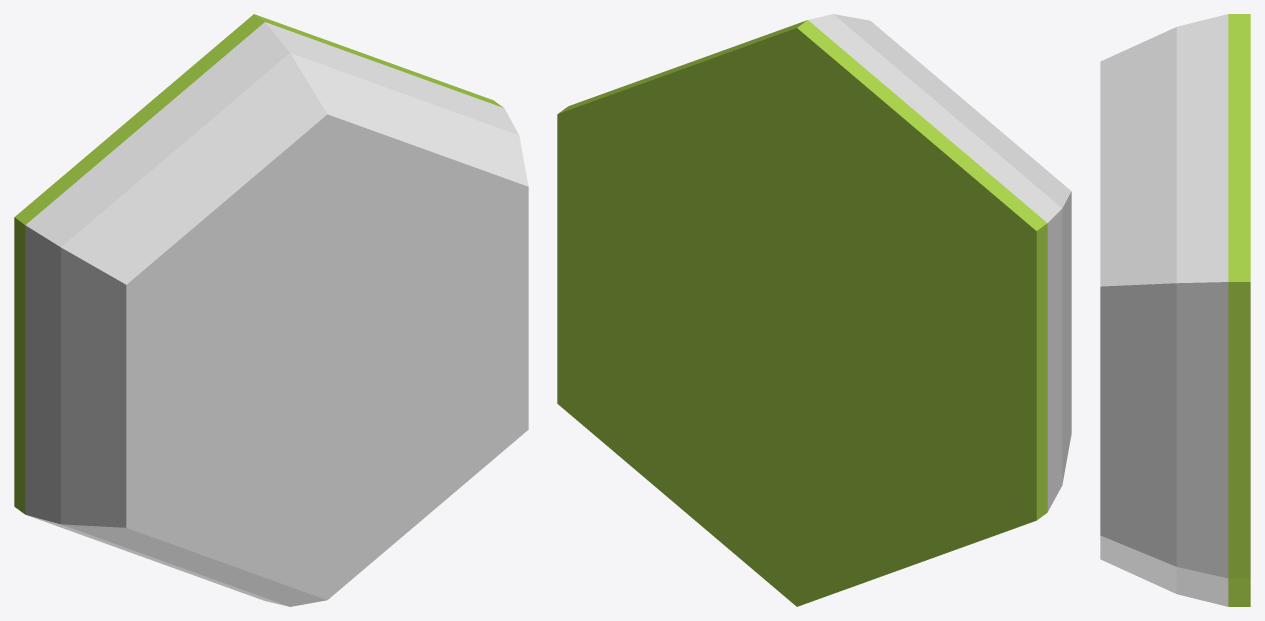
File: terrain 6-gon.fbx
The picture shows the model from 3 angles, left to right: view 1: azimuth 30°, elevation 25°; view 2: azimuth 150°, elevation 25°; view 3: azimuth 270°, elevation 25°; orthographic projection. The views are drawn at different scales.
Visible parts, largest first — view 1: Terrain 6-gon; view 2: Terrain 6-gon; view 3: Terrain 6-gon.
Boxes of the visible parts, x1,y1,x2,y2 form: Terrain 6-gon: (14, 14, 528, 606); Terrain 6-gon: (557, 14, 1071, 606); Terrain 6-gon: (1100, 14, 1250, 606).
Size of the model in its own units: 2.96 by 3.42 by 0.7861.
